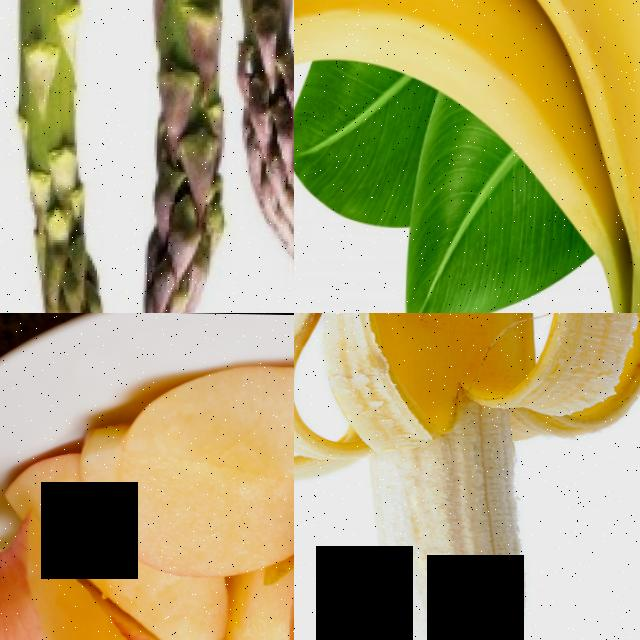apple: (75, 471, 294, 585), (123, 363, 294, 484), (0, 560, 175, 640), (77, 573, 232, 640)
asparagus: (102, 0, 246, 313), (10, 0, 133, 313), (211, 0, 294, 292)
banana: (294, 313, 640, 640), (294, 0, 640, 313)
